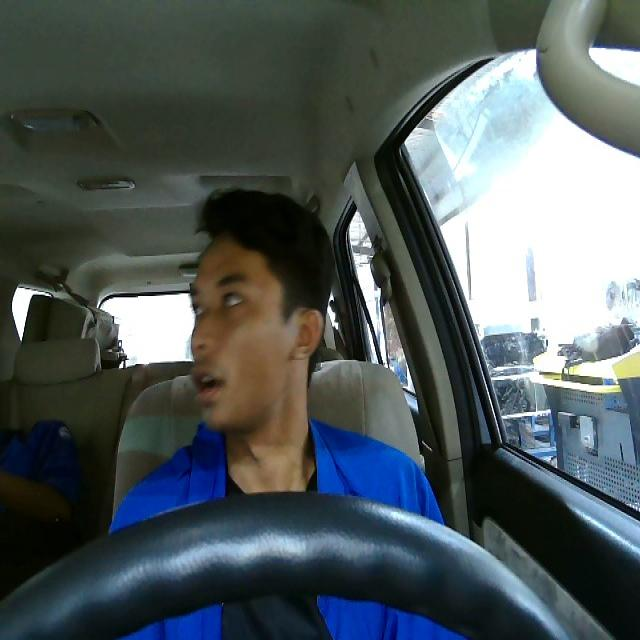yarning: (188, 234, 323, 430)
